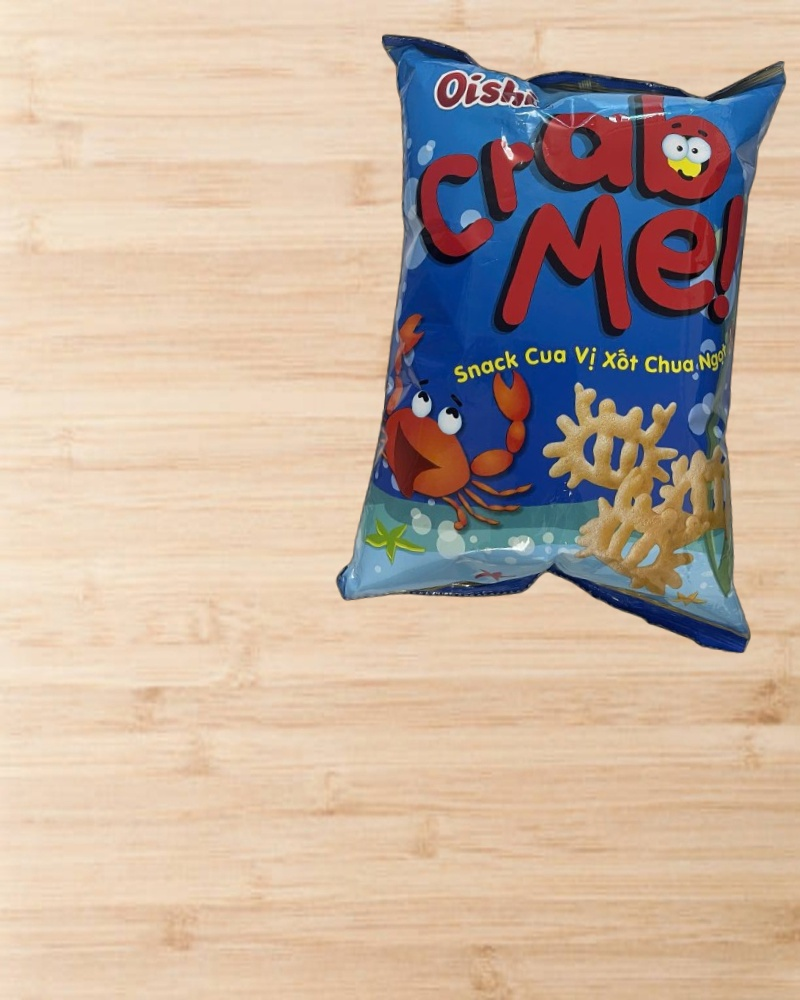Snack chay: (332, 27, 800, 656)
